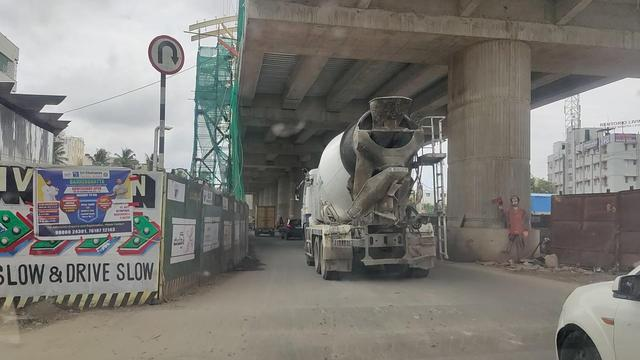HMV: (303, 92, 441, 273), (256, 205, 275, 236)
SpeedBump: (113, 294, 568, 341)
